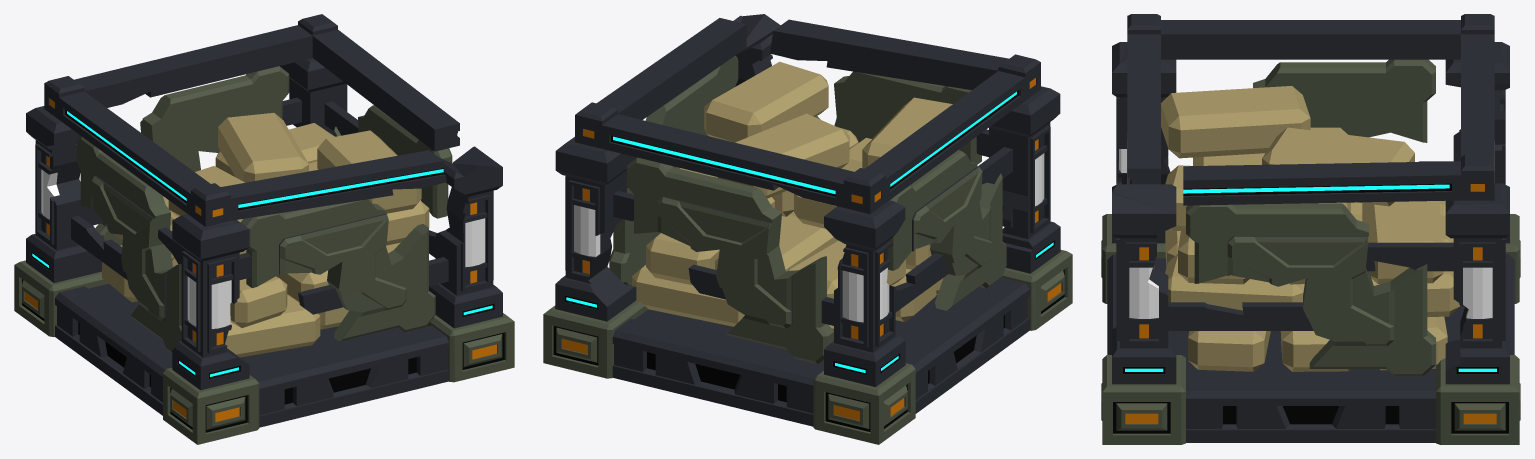
Rendered from SM_Military_Wall_Destroyed_T2.fbx.
3 renders of one model, left to right at view 1: azimuth 30°, elevation 25°; view 2: azimuth 150°, elevation 25°; view 3: azimuth 270°, elevation 25°, orthographic. The views are drawn at different scales.
Parts seen in each view (by area): view 1: SM_Military_Wall_Destroyed_T2; view 2: SM_Military_Wall_Destroyed_T2; view 3: SM_Military_Wall_Destroyed_T2.
Boxes of the visible parts, x1=… form: SM_Military_Wall_Destroyed_T2: x1=14, y1=14, x2=514, y2=444; SM_Military_Wall_Destroyed_T2: x1=543, y1=14, x2=1072, y2=444; SM_Military_Wall_Destroyed_T2: x1=1101, y1=14, x2=1520, y2=444.
Bounding box in the file's own units: 101 × 70.6 × 101.
